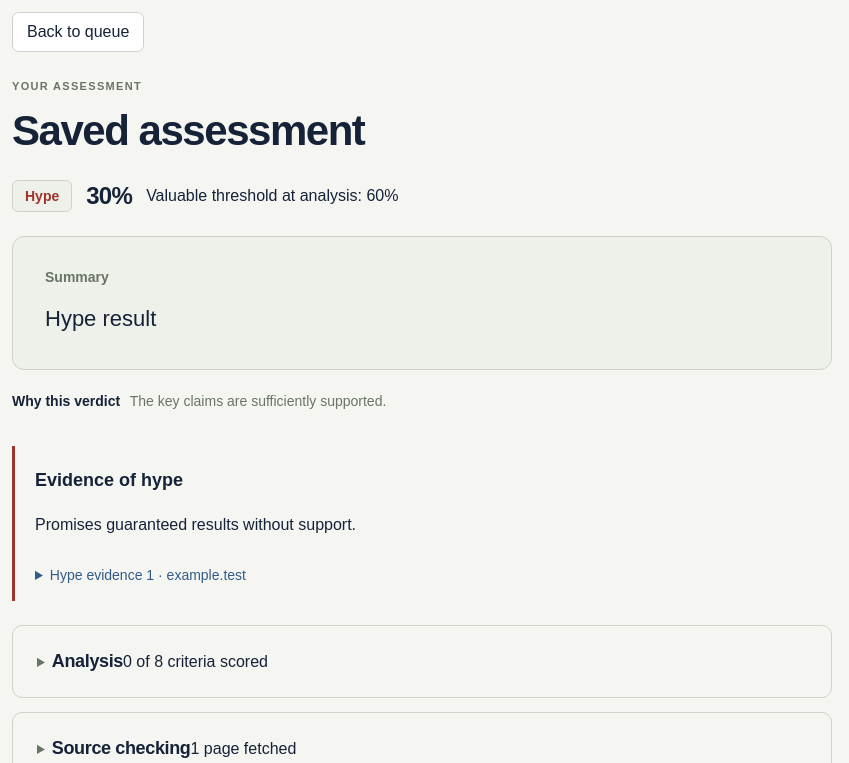
Scenario: keeps hype warnings visible and reveals their exact source evidence inline
Check: the text "Promises guaranteed results without support." is shown, box [35,516,356,533]
Check: the text "Guaranteed success!" is not shown
Step 1. Click the heading "Hype evidence 1 · example.test" → x=148, y=575, box [50,567,246,583]
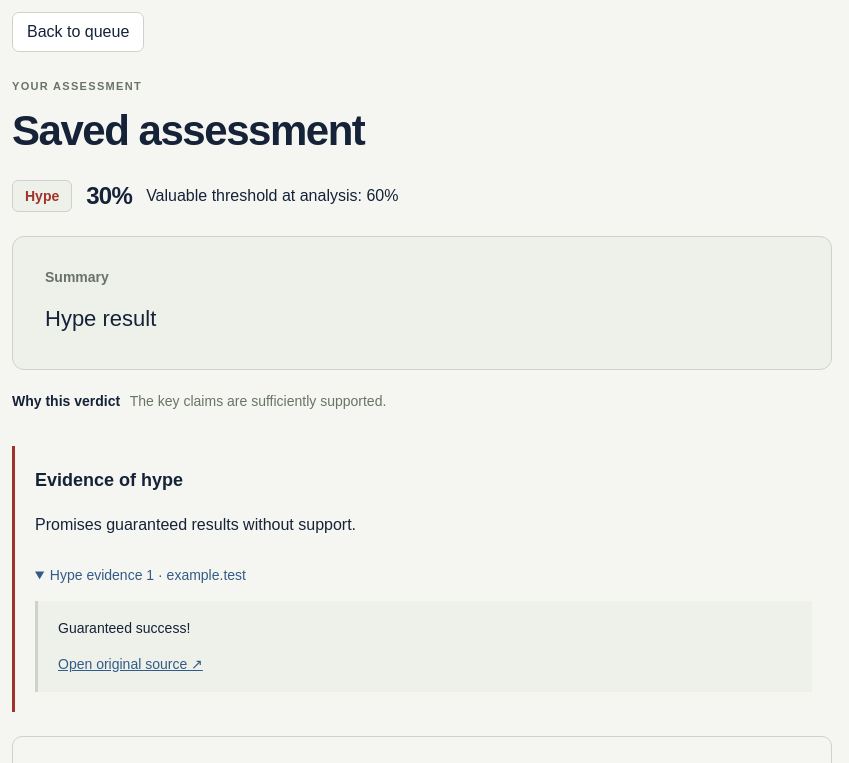
Check: the text "Guaranteed success!" is shown, box [58,620,190,636]
